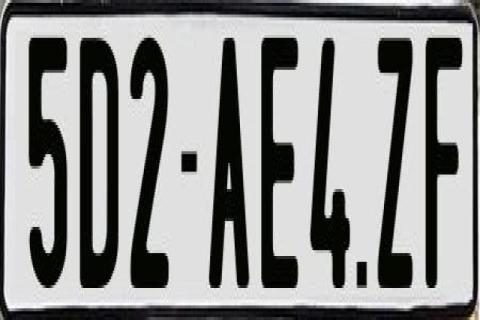0: (27, 38, 70, 306), (308, 32, 352, 288), (128, 29, 167, 291)
A: (207, 32, 252, 300)
D: (80, 29, 124, 294)
E: (260, 29, 301, 285)
F: (422, 35, 464, 288)
Z: (376, 29, 411, 279)
